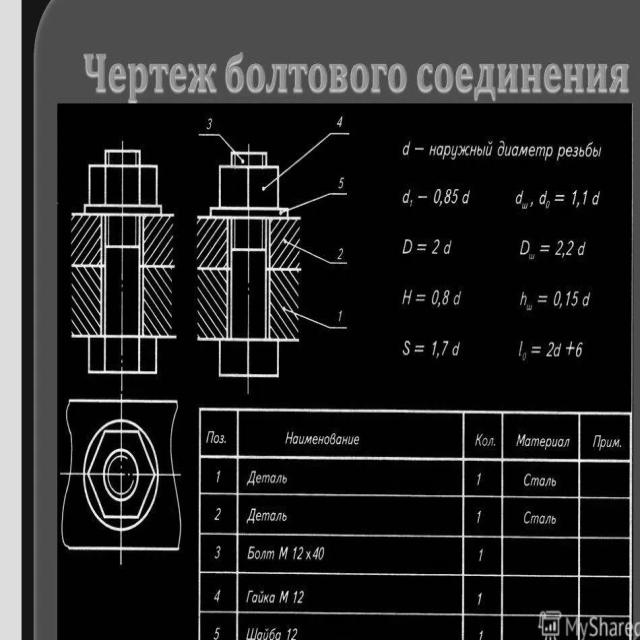numeric: (555, 287, 593, 309), (433, 186, 472, 207), (546, 342, 588, 361), (431, 286, 462, 309), (431, 337, 462, 360), (555, 239, 587, 259), (572, 189, 603, 209), (430, 235, 454, 259), (329, 304, 348, 326), (333, 114, 345, 130), (474, 472, 485, 489), (334, 174, 345, 190), (475, 593, 486, 609), (204, 118, 216, 131), (477, 547, 485, 565), (475, 509, 483, 525), (337, 246, 345, 261), (476, 628, 483, 640)
special_symbol: (199, 132, 231, 150), (320, 131, 350, 147), (318, 193, 348, 203), (321, 323, 348, 333), (326, 258, 347, 269)
